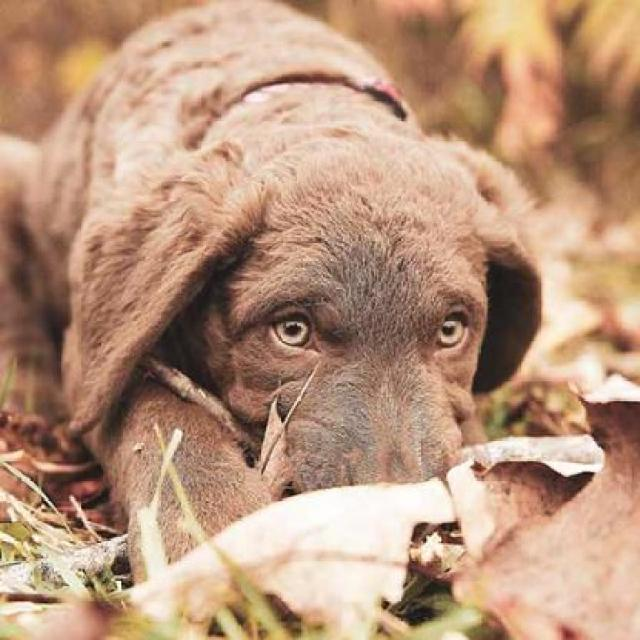animals: (17, 0, 586, 543)
